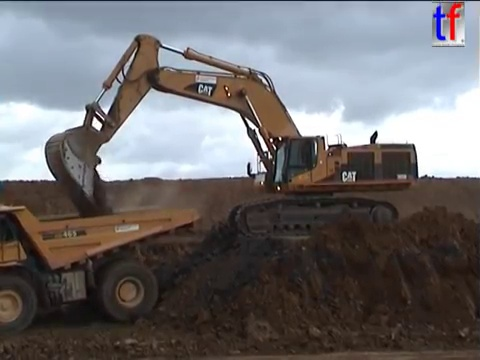excavator: (42, 31, 421, 239)
truck: (1, 202, 203, 336)
